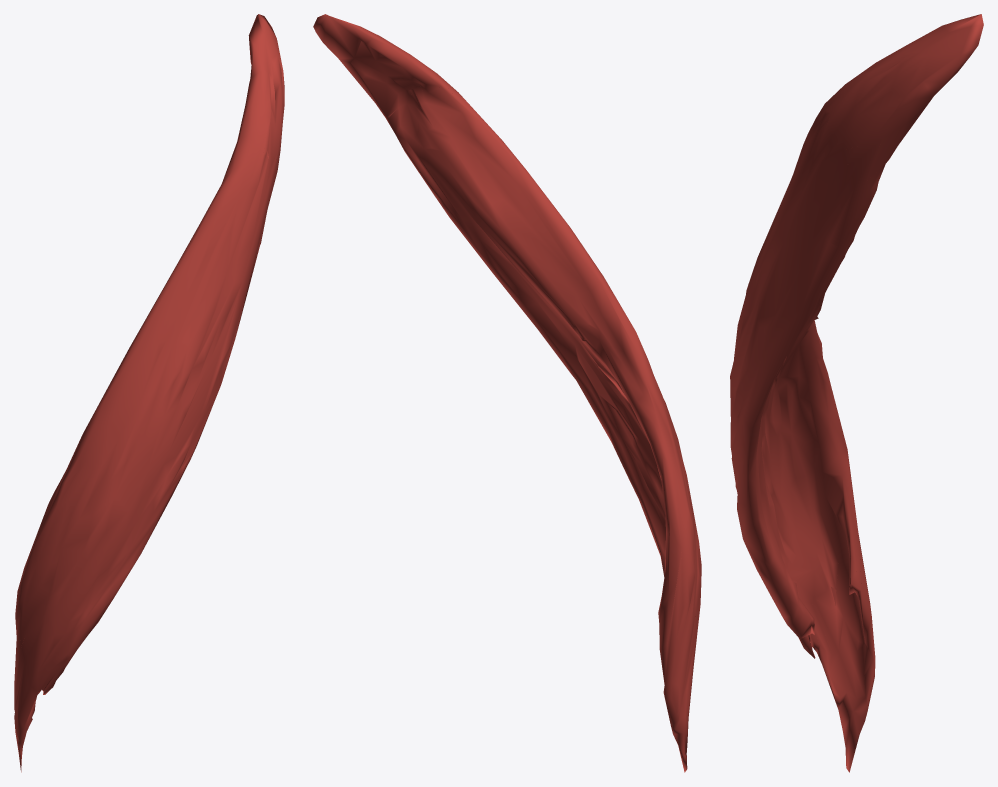
The model's file is musculos-superficial-head-of-pronator-teres-r.glb.
The picture shows the model from 3 angles, left to right: view 1: azimuth 30°, elevation 25°; view 2: azimuth 150°, elevation 25°; view 3: azimuth 270°, elevation 25°; orthographic projection. The views are drawn at different scales.
Parts seen in each view (by area): view 1: Superficial head of pronator teres.r; view 2: Superficial head of pronator teres.r; view 3: Superficial head of pronator teres.r.
Boxes of the visible parts, x1,y1,x2,y2 form: Superficial head of pronator teres.r: (14, 14, 284, 772); Superficial head of pronator teres.r: (313, 14, 701, 772); Superficial head of pronator teres.r: (730, 14, 983, 772).
Size of the model in its own units: 0.0722 by 0.1506 by 0.0361.
